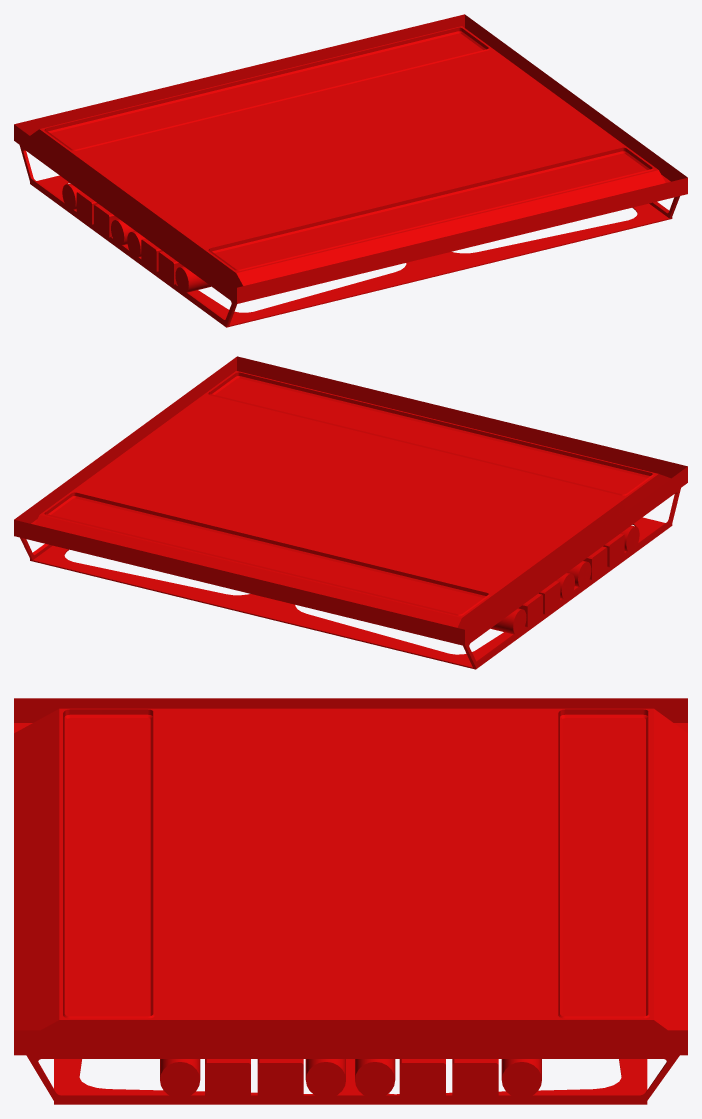
The model's file is Ceiling_2.fbx.
3 renders of one model, top to bottom at view 1: azimuth 30°, elevation 25°; view 2: azimuth 150°, elevation 25°; view 3: azimuth 270°, elevation 25°, orthographic. The views are drawn at different scales.
Visible parts, largest first — view 1: L24:polySurface2179; view 2: L24:polySurface2179; view 3: L24:polySurface2179.
Boxes of the visible parts, x1,y1,x2,y2 form: L24:polySurface2179: [14, 14, 687, 327]; L24:polySurface2179: [14, 356, 687, 669]; L24:polySurface2179: [14, 698, 687, 1104].
Size of the model in its own units: 377 by 41.04 by 323.
